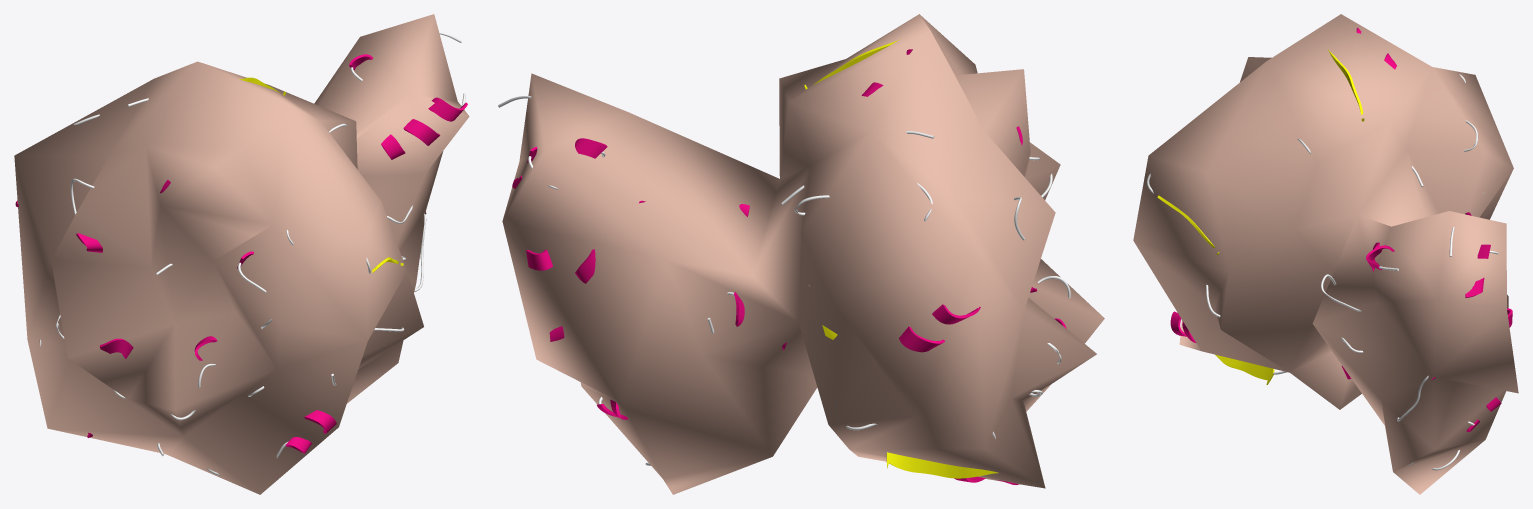
File: cholera toxin-COARSE.fbx
The picture shows the model from 3 angles, left to right: view 1: azimuth 30°, elevation 25°; view 2: azimuth 150°, elevation 25°; view 3: azimuth 270°, elevation 25°; orthographic projection. The views are drawn at different scales.
Visible parts, largest first — view 1: CoarseMS_1xtc_3, 1xtc_C_Helix1, 1xtc_H_Helix1; view 2: CoarseMS_1xtc_3, 1xtc_D_Strand1, 1xtc_E_Helix1, 1xtc_A_Helix4; view 3: CoarseMS_1xtc_3, 1xtc_H_Strand3.
Part boxes in pixels (x1=…): CoarseMS_1xtc_3: x1=14, y1=14, x2=469, y2=494; 1xtc_C_Helix1: x1=381, y1=97, x2=467, y2=159; 1xtc_H_Helix1: x1=286, y1=410, x2=336, y2=453; CoarseMS_1xtc_3: x1=502, y1=14, x2=1104, y2=494; 1xtc_D_Strand1: x1=886, y1=452, x2=998, y2=478; 1xtc_E_Helix1: x1=899, y1=304, x2=980, y2=352; 1xtc_A_Helix4: x1=526, y1=249, x2=595, y2=283; CoarseMS_1xtc_3: x1=1133, y1=14, x2=1518, y2=494; 1xtc_H_Strand3: x1=1215, y1=354, x2=1274, y2=384.
Bounding box in the file's own units: 80.78 × 70.83 × 62.43.
